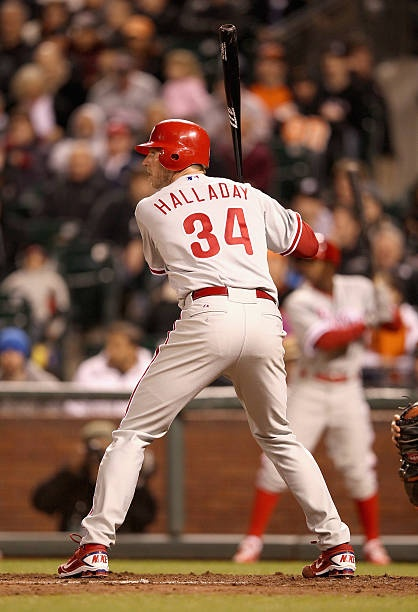bita: (212, 20, 247, 191)
